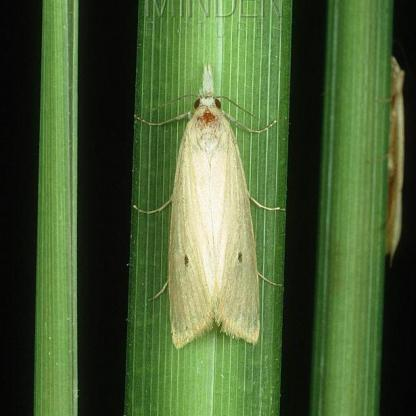stem-borer: (151, 60, 266, 350)
